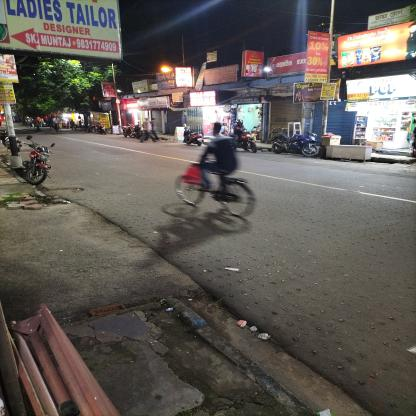bicycle: (158, 153, 292, 233)
